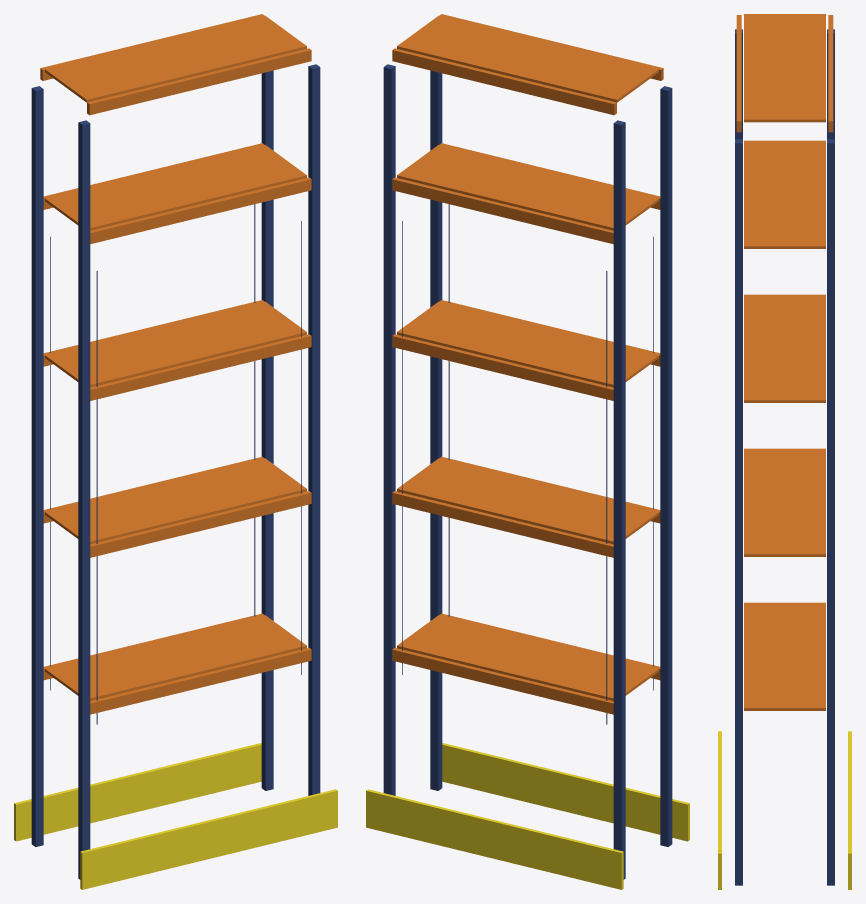
File: shelf-beam-heavy-5level.glb
3 views of the same model, side by side, from view 1: azimuth 30°, elevation 25°; view 2: azimuth 150°, elevation 25°; view 3: azimuth 270°, elevation 25° (orthographic).
Parts seen in each view (by area): view 1: part_143, part_2, part_114, part_0, part_60, part_87, part_6, part_33, part_1, part_144, part_3, part_112 (+10 smaller); view 2: part_144, part_0, part_114, part_2, part_60, part_87, part_6, part_33, part_3, part_143, part_1, part_113 (+10 smaller); view 3: part_6, part_33, part_60, part_87, part_114, part_1, part_3, part_112, part_113, part_143, part_144, part_0 (+1 smaller).
Part boxes in pixels (left/top/right/bottom): part_143: left=80, top=789, right=337, bottom=889; part_2: left=31, top=86, right=43, bottom=846; part_114: left=45, top=15, right=306, bottom=102; part_0: left=78, top=120, right=90, bottom=879; part_60: left=45, top=301, right=306, bottom=387; part_87: left=45, top=145, right=306, bottom=230; part_6: left=45, top=615, right=306, bottom=700; part_33: left=45, top=458, right=306, bottom=544; part_1: left=308, top=64, right=320, bottom=795; part_144: left=14, top=743, right=261, bottom=841; part_3: left=261, top=70, right=273, bottom=790; part_112: left=87, top=48, right=311, bottom=115; part_144: left=366, top=789, right=623, bottom=889; part_0: left=660, top=86, right=672, bottom=846; part_114: left=397, top=15, right=658, bottom=102; part_2: left=613, top=120, right=625, bottom=879; part_60: left=397, top=301, right=658, bottom=387; part_87: left=397, top=145, right=658, bottom=230; part_6: left=397, top=615, right=658, bottom=700; part_33: left=397, top=458, right=658, bottom=544; part_3: left=383, top=64, right=395, bottom=795; part_143: left=442, top=743, right=689, bottom=841; part_1: left=430, top=70, right=442, bottom=790; part_113: left=392, top=48, right=616, bottom=115; part_6: left=744, top=602, right=825, bottom=710; part_33: left=744, top=448, right=825, bottom=556; part_60: left=744, top=294, right=825, bottom=402; part_87: left=744, top=140, right=825, bottom=248; part_114: left=744, top=14, right=825, bottom=122; part_1: left=735, top=139, right=742, bottom=885; part_3: left=827, top=139, right=834, bottom=885; part_112: left=736, top=15, right=741, bottom=132; part_113: left=828, top=15, right=833, bottom=132; part_143: left=718, top=731, right=721, bottom=889; part_144: left=848, top=731, right=851, bottom=889; part_0: left=735, top=29, right=742, bottom=139.
Bounding box in the file's own units: 2900 × 8415 × 1340.
